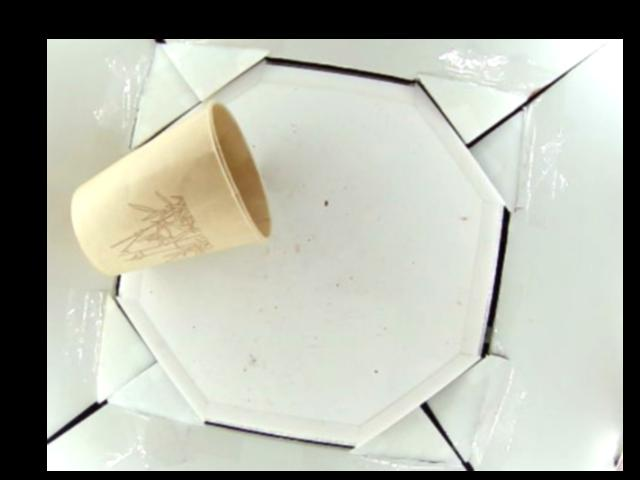Cup: (72, 101, 271, 275)
